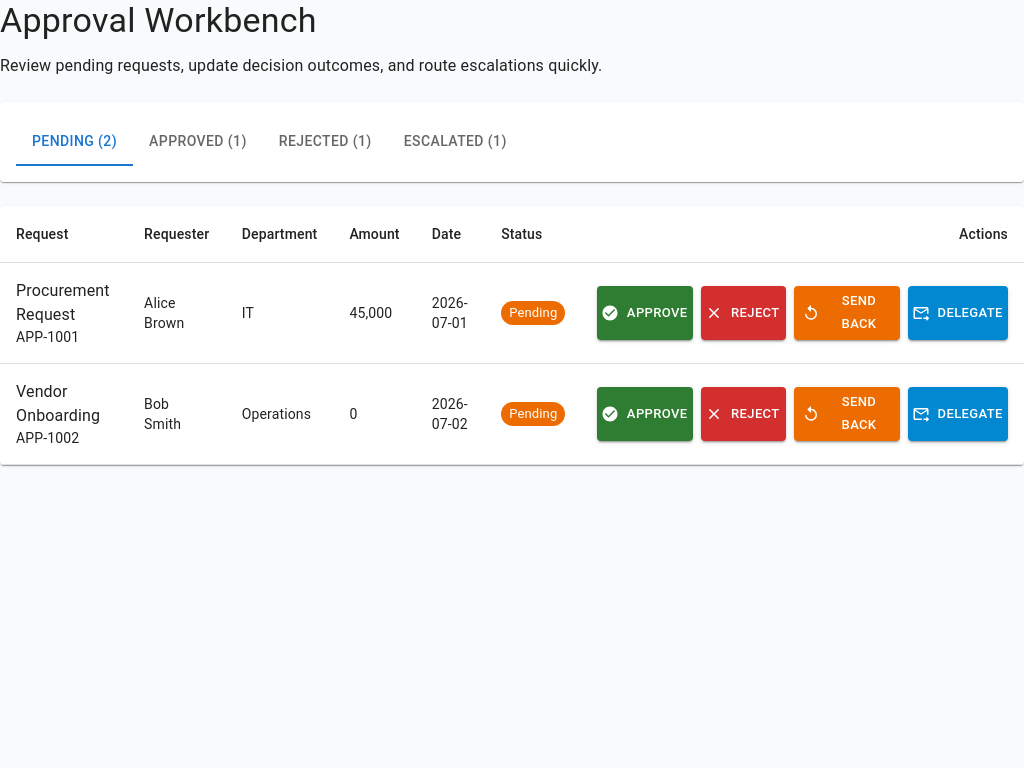
Test case: ApprovalsPage › updates an item to Approved when the approval action is confirmed
This screenshot has width=1024, height=768.
Step 1. Click the button "Approve" in the row of "Procurement Request" → point(645, 313), box x1=597 y1=286 x2=693 y2=340
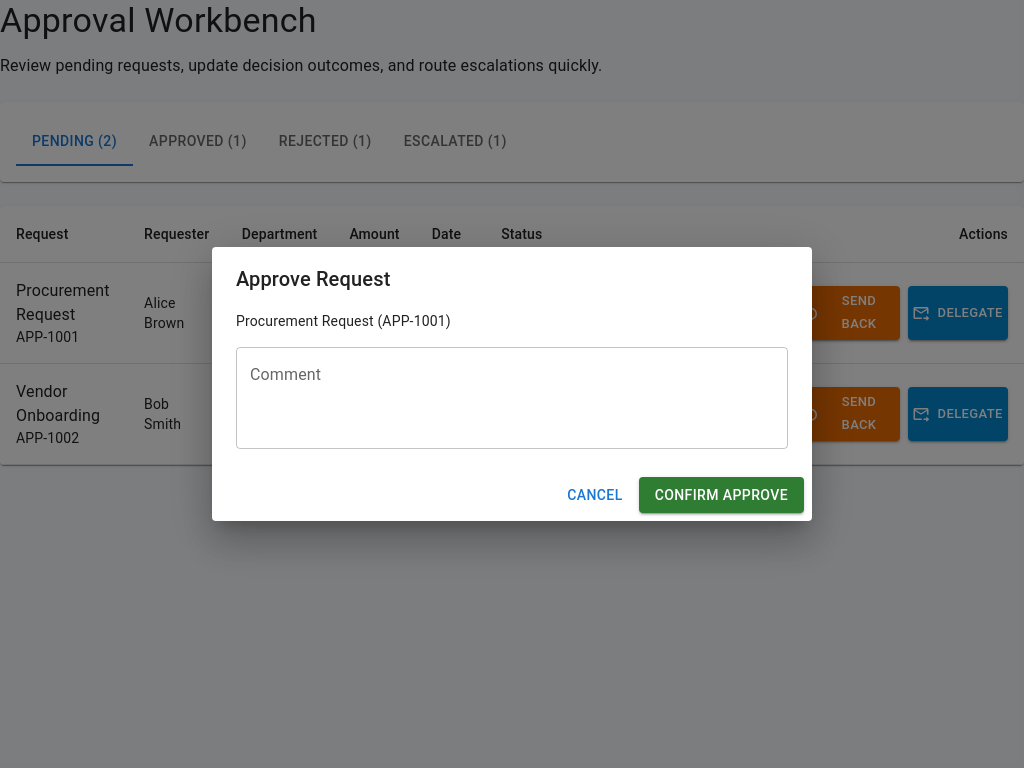
Step 2. Click the button "Confirm Approve" → point(721, 495), box x1=639 y1=477 x2=804 y2=513
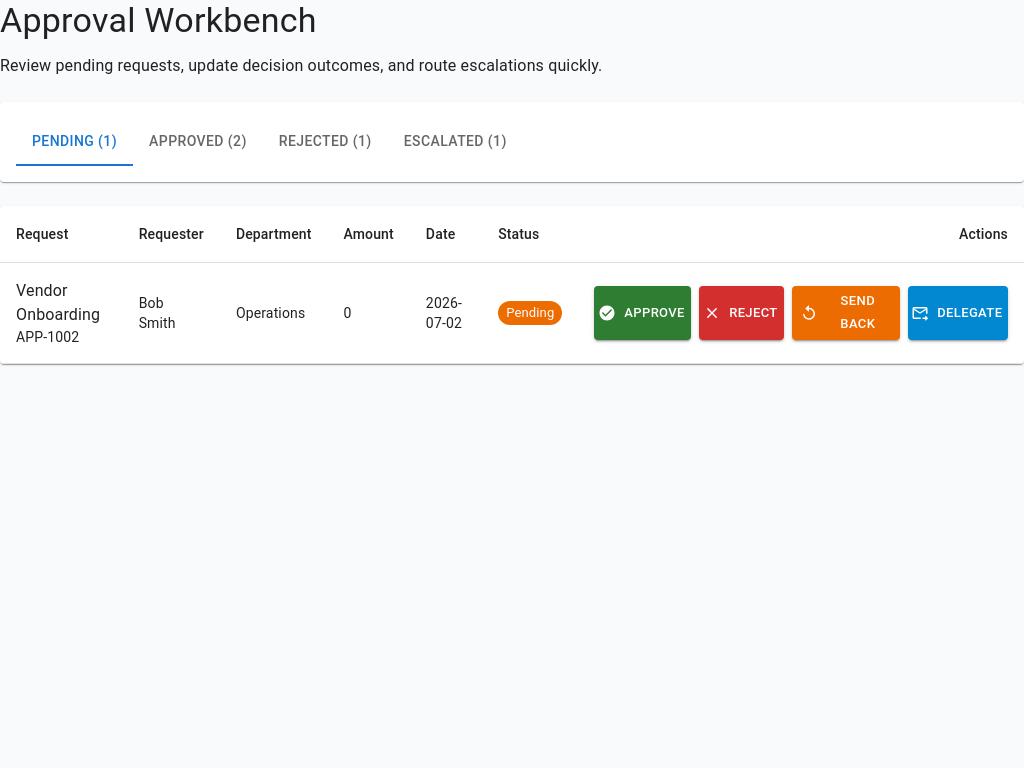
Result: the dialog is gone
Step 3. Click the tab "Approved (2)" → point(198, 142), box x1=133 y1=118 x2=263 y2=166
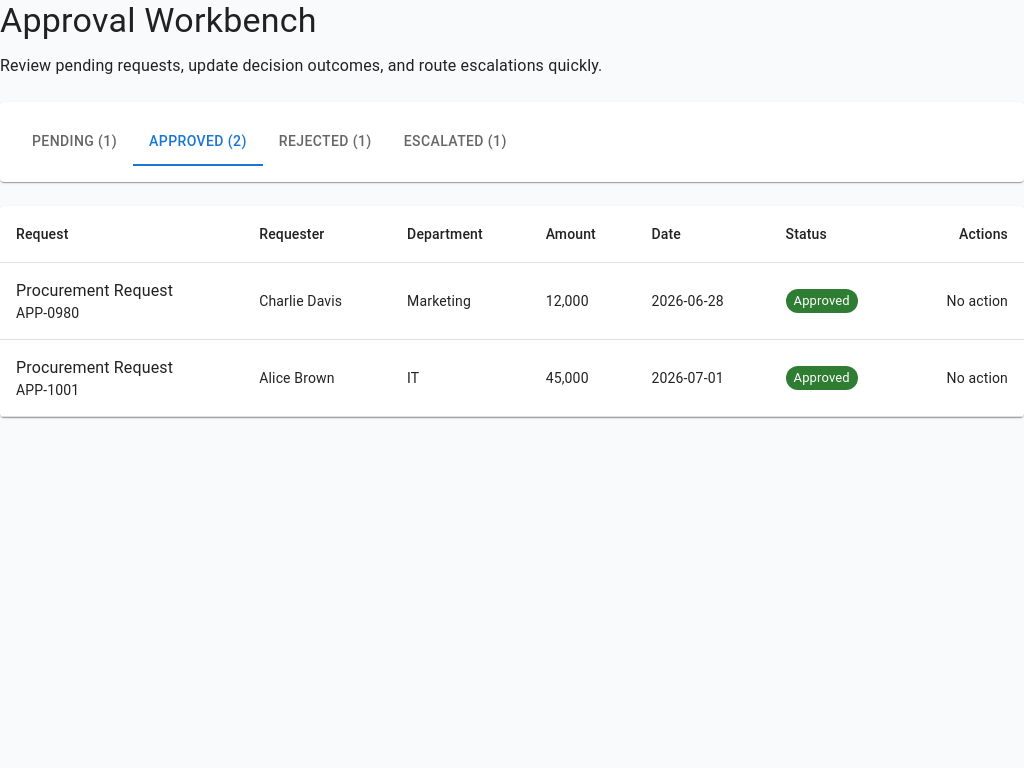
Result: the text "APP-1001" is shown at x1=16 y1=382 x2=79 y2=398
